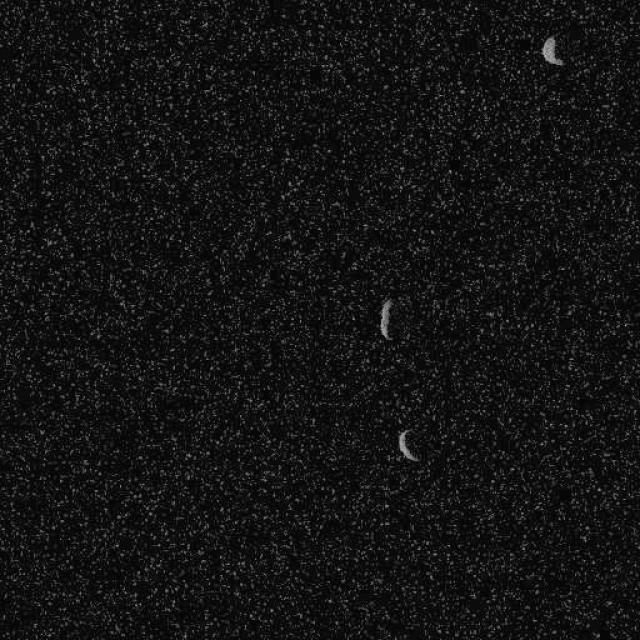D2: (396, 428, 420, 462), (540, 35, 564, 66), (378, 298, 393, 340)
